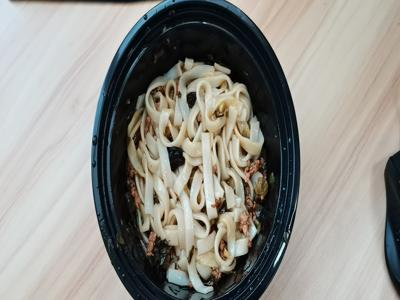nrm: (140, 83, 254, 255)
